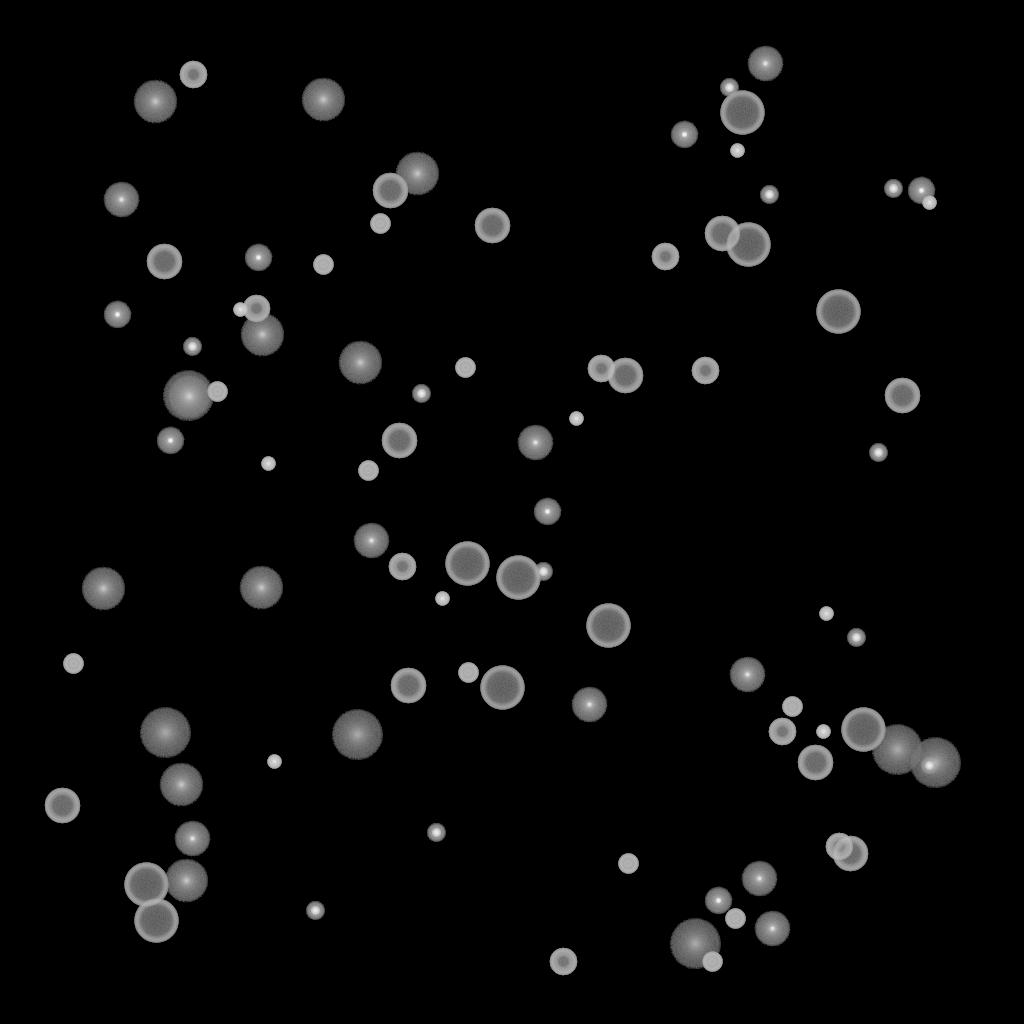depth:-10: (103, 301, 131, 329), (156, 427, 184, 455), (704, 887, 732, 915), (907, 177, 935, 205), (670, 121, 698, 149), (244, 244, 272, 272), (533, 498, 561, 526)
depth:-20: (306, 902, 324, 920), (427, 824, 445, 842), (412, 385, 430, 403), (183, 338, 201, 356), (884, 180, 902, 198), (847, 629, 865, 647), (869, 444, 887, 462), (720, 79, 738, 97), (920, 757, 938, 775), (760, 186, 778, 204), (534, 563, 552, 581)
depth:-30: (261, 457, 275, 471), (233, 303, 247, 317), (569, 412, 583, 426), (435, 592, 449, 606), (267, 755, 281, 769), (816, 725, 830, 739), (819, 607, 833, 621), (922, 196, 936, 210), (730, 144, 744, 158)
depth:-40: (358, 461, 378, 481), (455, 358, 475, 378), (63, 654, 83, 674), (725, 909, 745, 929), (313, 255, 333, 275), (207, 382, 227, 402), (370, 214, 390, 234), (458, 663, 478, 683), (782, 697, 802, 717), (702, 952, 722, 972), (618, 854, 638, 874)
depth:-50: (825, 833, 853, 861), (651, 243, 679, 271), (768, 718, 796, 746), (587, 355, 615, 383), (242, 295, 270, 323), (179, 61, 207, 89), (549, 948, 577, 976), (691, 357, 719, 385), (388, 553, 416, 581)
depth:-60: (832, 836, 868, 872), (372, 173, 408, 209), (884, 378, 920, 414), (390, 668, 426, 704), (704, 216, 740, 252), (474, 208, 510, 244), (381, 423, 417, 459), (607, 358, 643, 394), (797, 745, 833, 781), (146, 244, 182, 280), (44, 788, 80, 824)
depth:-70: (445, 542, 489, 586), (480, 666, 524, 710), (586, 604, 630, 648), (720, 91, 764, 135), (726, 223, 770, 267), (841, 708, 885, 752), (124, 863, 168, 907), (496, 556, 540, 600), (816, 290, 860, 334), (134, 899, 178, 943)
depth:0: (754, 911, 790, 947), (517, 425, 553, 461), (741, 861, 777, 897), (103, 182, 139, 218), (571, 687, 607, 723), (729, 657, 765, 693), (353, 523, 389, 559), (174, 821, 210, 857), (747, 46, 783, 82)
depth:10: (239, 566, 283, 610), (81, 567, 125, 611), (167, 375, 211, 419), (338, 341, 382, 385), (133, 80, 177, 124), (164, 859, 208, 903), (301, 78, 345, 122), (240, 313, 284, 357), (395, 152, 439, 196), (159, 763, 203, 807)
depth:20: (909, 738, 961, 788), (139, 708, 191, 758), (331, 710, 383, 760), (871, 725, 923, 775), (669, 919, 721, 969), (162, 371, 214, 421)
